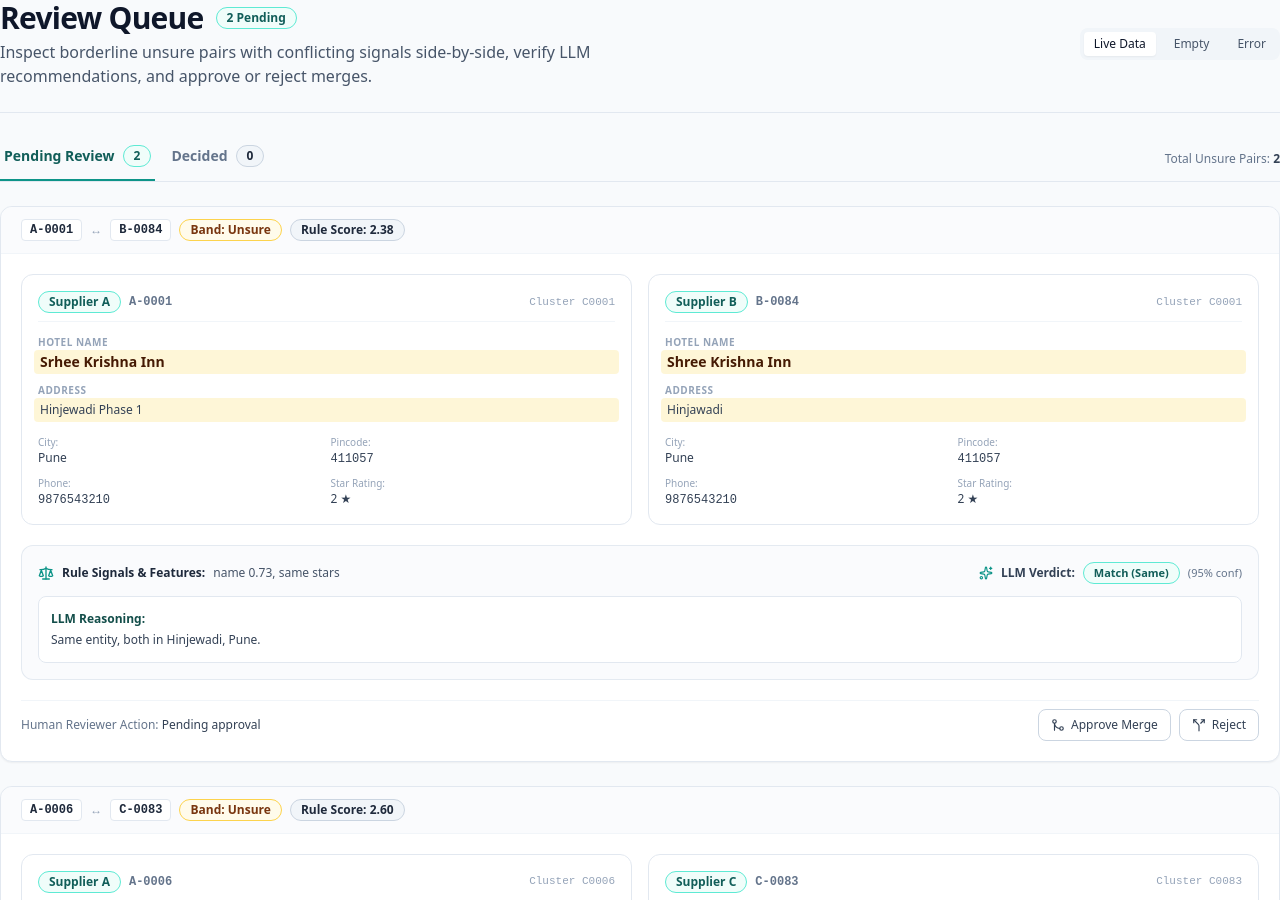
it: ReviewPage › handles error during review submission and shows retry option
Check: the text "Srhee Krishna Inn" is shown, box x1=34 y1=350 x2=619 y2=374
Click the button "Reject" at (1219, 724), box x1=1179 y1=708 x2=1259 y2=740
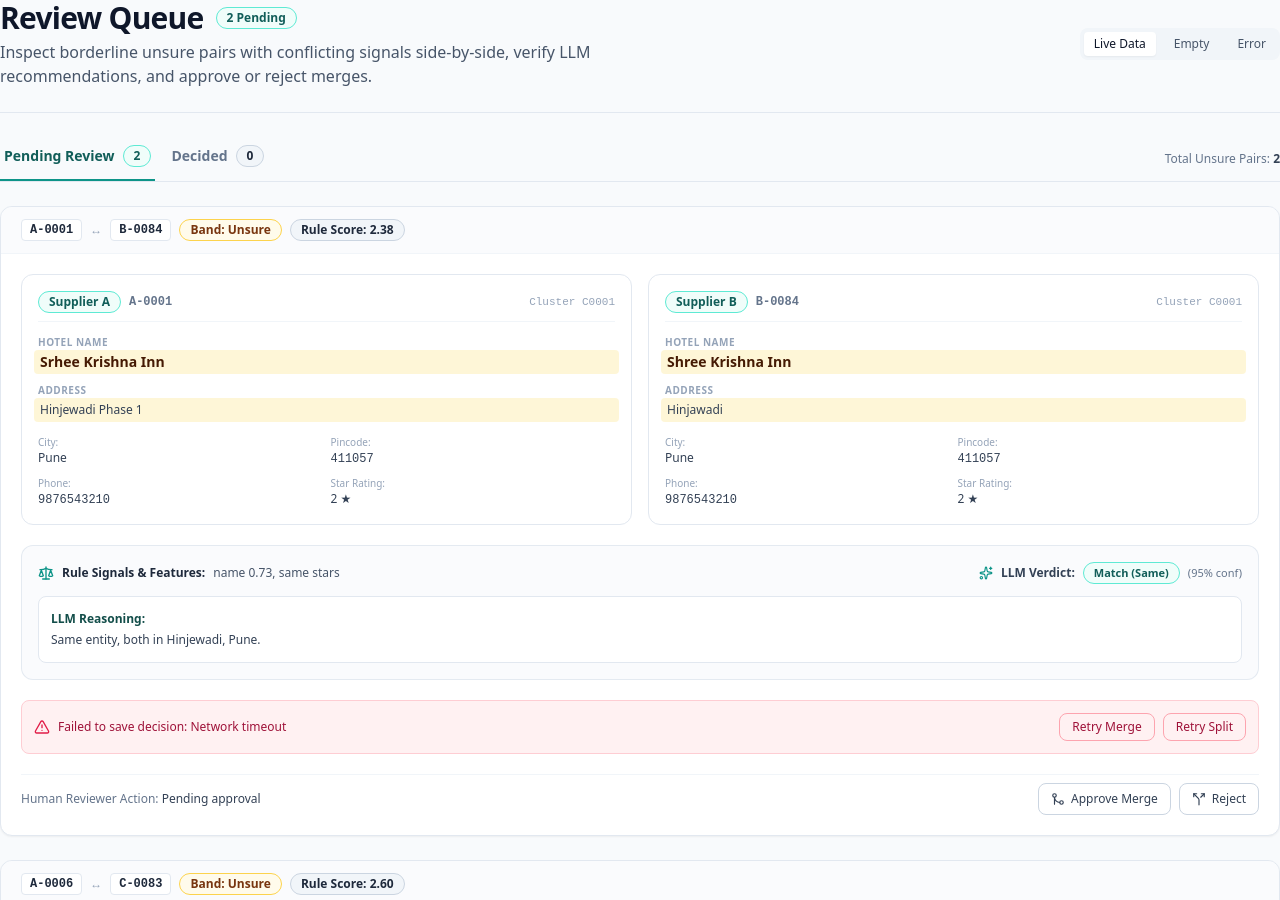
Check: the text "Failed to save decision: Network timeout" is shown, box x1=58 y1=718 x2=286 y2=734
Check: the button "Retry Split" is shown, box x1=1163 y1=712 x2=1246 y2=740
